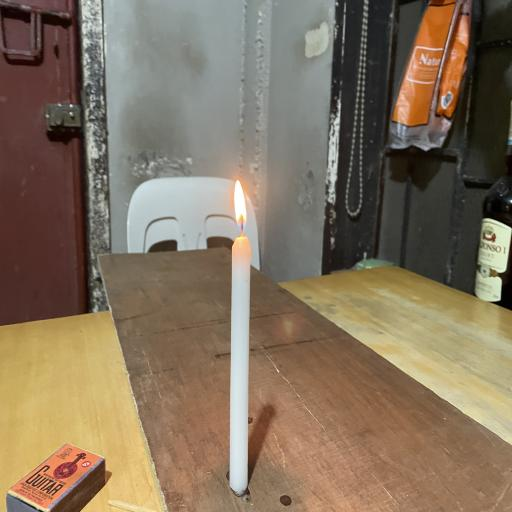fire: (222, 177, 259, 253)
